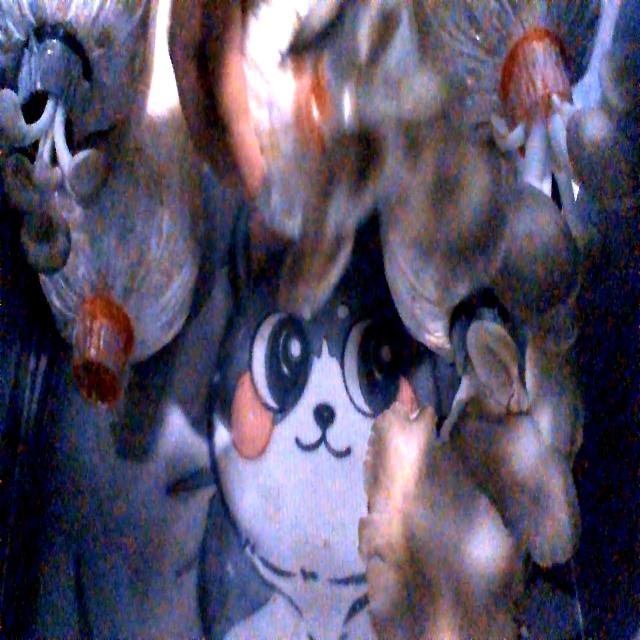big: (352, 305, 597, 640)
nfound: (66, 334, 126, 428)
small: (0, 88, 114, 276)
